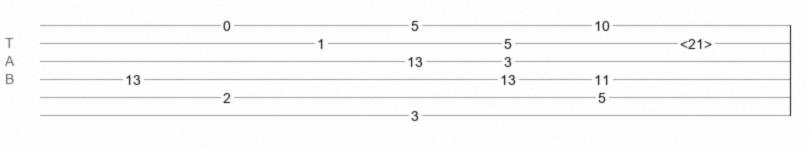0: (223, 18, 231, 28)
1: (317, 36, 325, 46)
10: (594, 18, 610, 28)
11: (594, 72, 610, 82)
13: (125, 72, 141, 82), (407, 54, 423, 64), (500, 72, 516, 82)
2: (223, 90, 231, 100)
3: (411, 108, 419, 118), (504, 54, 512, 64)
5: (411, 18, 419, 28), (504, 36, 512, 46), (598, 90, 606, 100)
harmonic: (680, 36, 712, 46)
